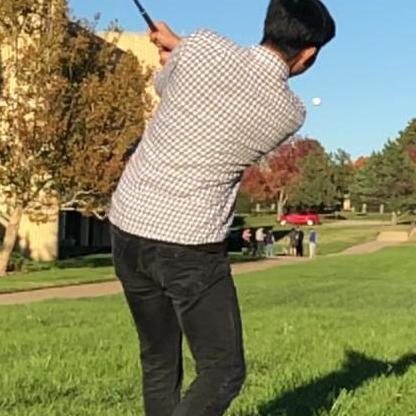golfball: (308, 95, 322, 105)
